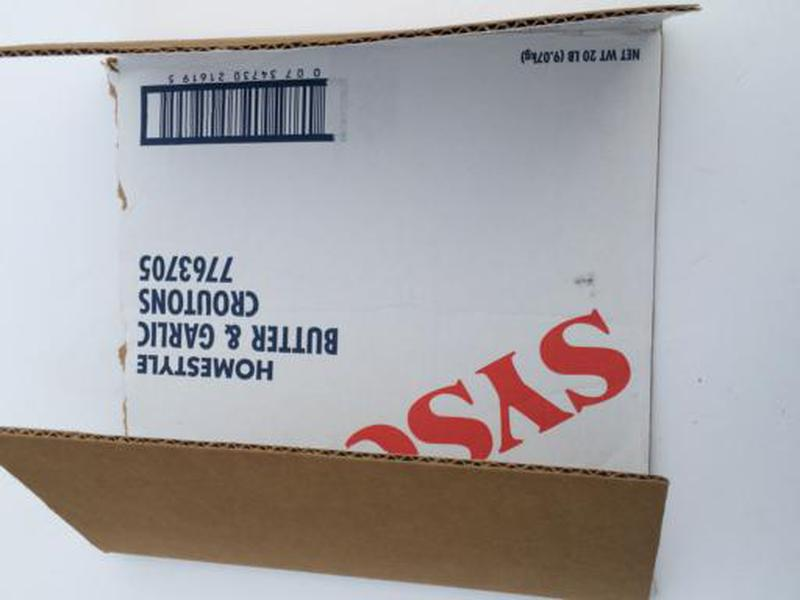cardboard: (1, 3, 707, 600)
